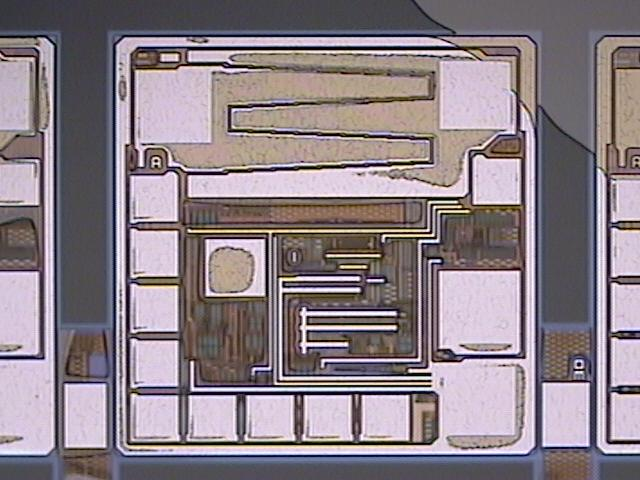COATING BAD: (1, 1, 640, 453)
